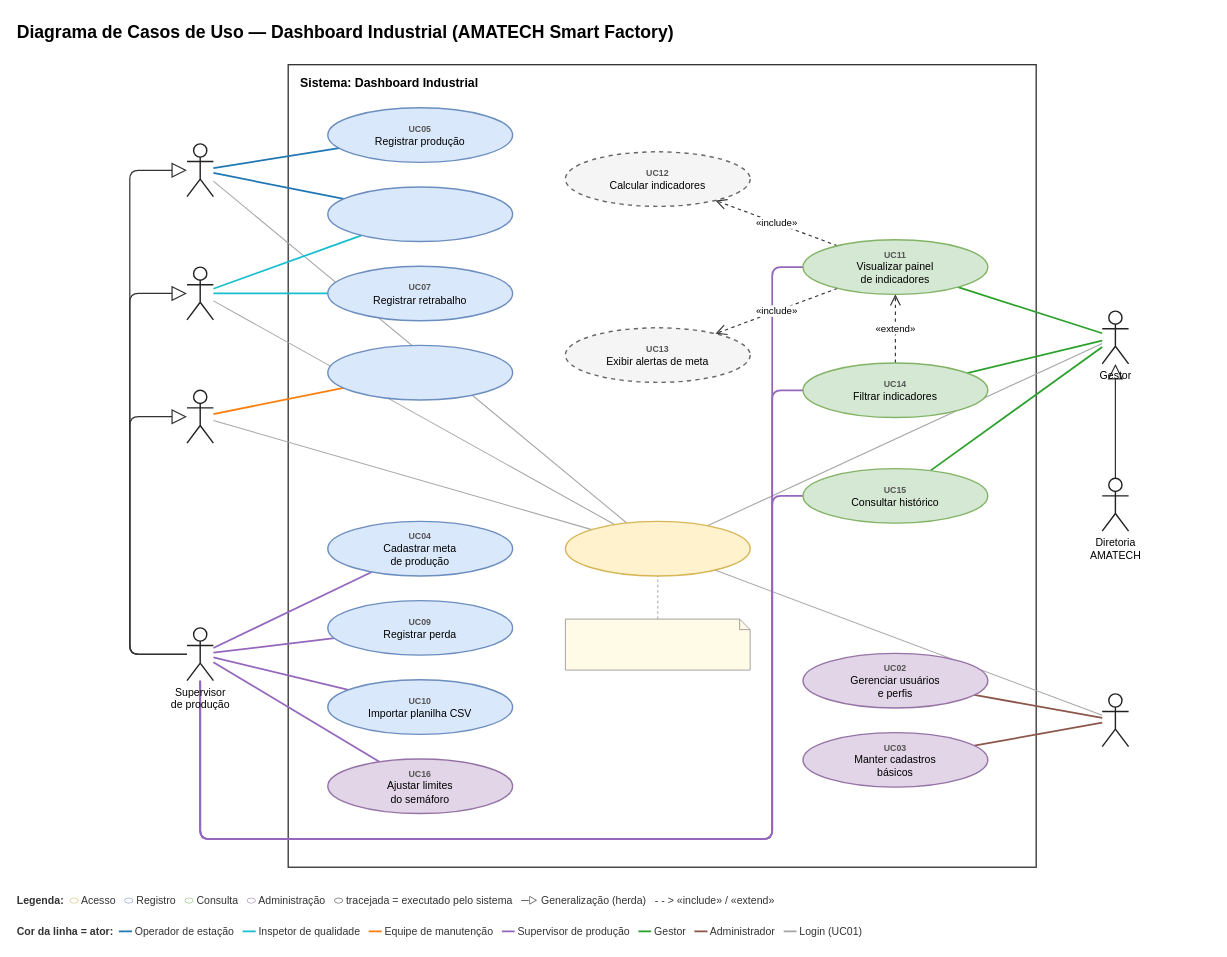
Some shapes in this 1227 by 957 pixel diagram are drawn without their labels. Each missing label, with the box of its shape:
Administrador: (1101, 693, 1129, 747)
Equipe de manutenção: (186, 389, 214, 443)
Inspetor de qualidade: (186, 266, 214, 320)
Operador de estação: (186, 143, 214, 197)
Todos os casos de uso exigem login (UC01).: (565, 618, 750, 670)
UC01 Autenticar-se: (564, 520, 750, 576)
UC06 Registrar defeito: (327, 186, 513, 242)
UC08 Registrar parada: (327, 344, 513, 400)
